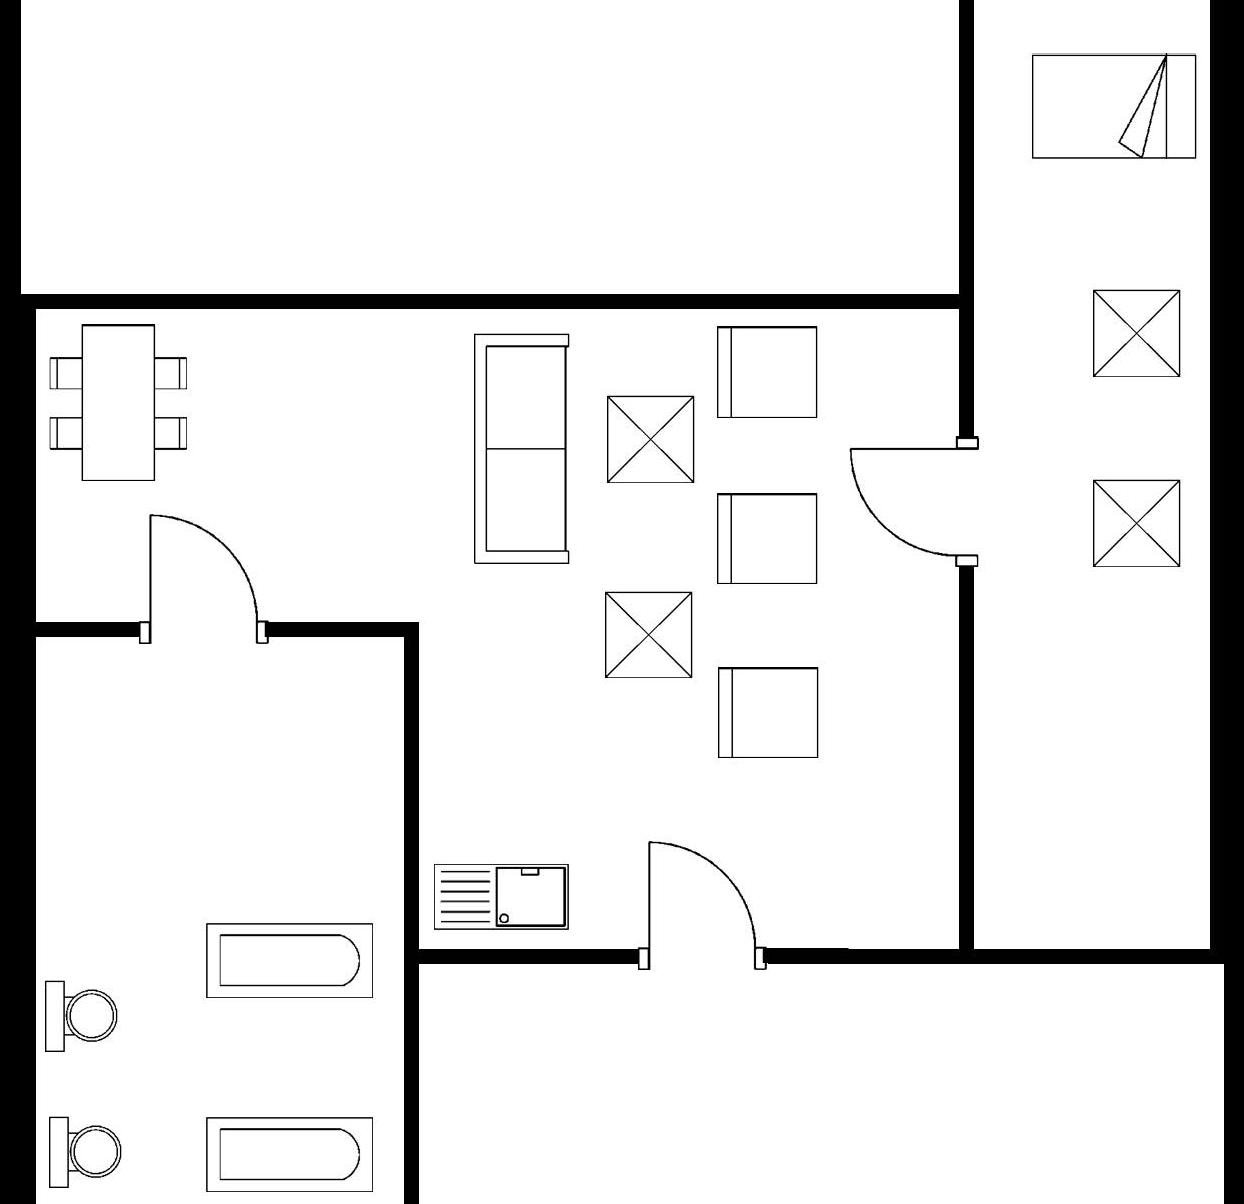bed: (1024, 46, 1203, 165)
dining_table: (46, 313, 192, 494)
sink: (423, 853, 578, 936)
sofa: (463, 320, 576, 573)
toilet: (43, 1105, 131, 1194), (40, 970, 124, 1061)
tub: (202, 911, 385, 1010), (198, 1108, 383, 1198)
